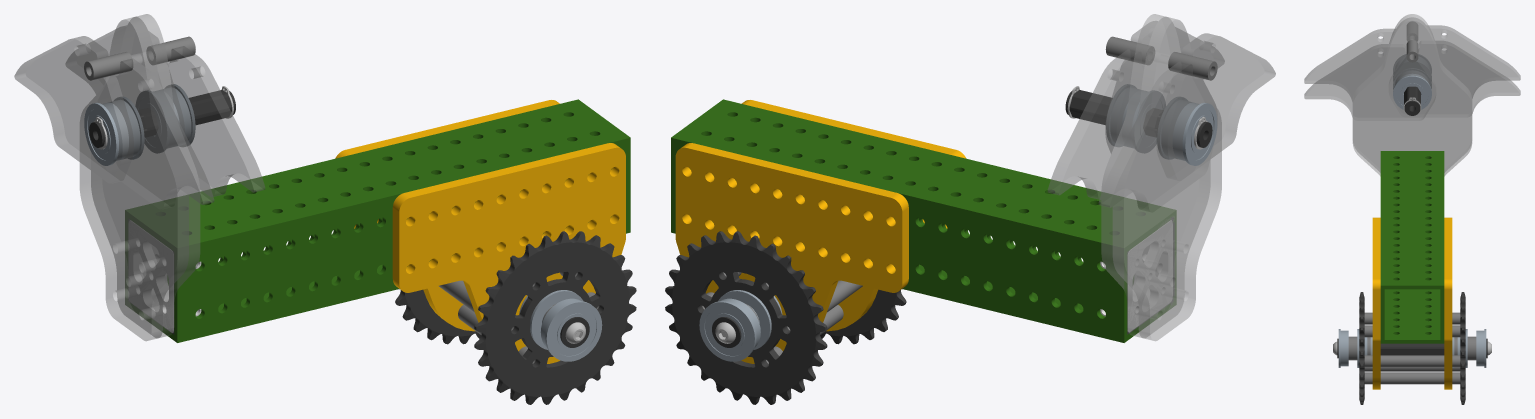
The picture shows the model from 3 angles, left to right: view 1: azimuth 30°, elevation 25°; view 2: azimuth 150°, elevation 25°; view 3: azimuth 270°, elevation 25°; orthographic projection. The views are drawn at different scales.
Visible parts, largest first — view 1: Climb Tube, Mid plate arrohead (×2), Arrowhead climb plate (×4), Climb to Mount Gusset (×2), 28t Bearing Bore Plate 35 Chain Sprocket (217-2653) (×2), .5" Hex ID 1.125" OD Flanged Bearing (217-2734) (×4), 2" x 2" Tube Plug 0.060" Wall, #10-32 Tapped (WCP-0373), .5" Round ID 1.125" OD Flanged Bearing (217-2731) (×2), Shaft (×2), 2nd Stage Motor Plate Big Spacers (×2); view 2: Climb Tube, Mid plate arrohead (×2), Climb to Mount Gusset (×2), Arrowhead climb plate (×4), 28t Bearing Bore Plate 35 Chain Sprocket (217-2653) (×2), .5" Hex ID 1.125" OD Flanged Bearing (217-2734) (×4), 2" x 2" Tube Plug 0.060" Wall, #10-32 Tapped (WCP-0373), .5" Round ID 1.125" OD Flanged Bearing (217-2731) (×2), Shaft (×2), 2nd Stage Motor Plate Big Spacers (×2); view 3: Arrowhead climb plate (×4), Mid plate arrohead (×2), Climb Tube, Climb to Mount Gusset (×2), Climb to Mount Big Spacer (×3), Shaft (×2), .5" Hex ID 1.125" OD Flanged Bearing (217-2734) (×3), 28t Bearing Bore Plate 35 Chain Sprocket (217-2653) (×2), .5" Round ID 1.125" OD Flanged Bearing (217-2731) (×2), Spacer for Big Climb Sprocket (×2), 2nd Stage Motor Plate Big Spacers.
Boxes of the visible parts, box(x1,y1,x2,y2) form: Climb Tube: box(125, 99, 630, 342); Mid plate arrohead (×2): box(79, 14, 200, 341); Arrowhead climb plate (×4): box(14, 25, 265, 209); Climb to Mount Gusset (×2): box(335, 100, 625, 363); 28t Bearing Bore Plate 35 Chain Sprocket (217-2653) (×2): box(395, 231, 636, 404); .5" Hex ID 1.125" OD Flanged Bearing (217-2734) (×4): box(84, 84, 195, 165); 2" x 2" Tube Plug 0.060" Wall, #10-32 Tapped (WCP-0373): box(128, 219, 201, 334); .5" Round ID 1.125" OD Flanged Bearing (217-2731) (×2): box(530, 290, 602, 361); Shaft (×2): box(89, 86, 589, 347); 2nd Stage Motor Plate Big Spacers (×2): box(84, 36, 195, 80); Climb Tube: box(671, 99, 1176, 342); Mid plate arrohead (×2): box(1101, 14, 1221, 341); Climb to Mount Gusset (×2): box(675, 100, 966, 363); Arrowhead climb plate (×4): box(1047, 21, 1275, 212); 28t Bearing Bore Plate 35 Chain Sprocket (217-2653) (×2): box(665, 231, 906, 404); .5" Hex ID 1.125" OD Flanged Bearing (217-2734) (×4): box(1106, 84, 1217, 165); 2" x 2" Tube Plug 0.060" Wall, #10-32 Tapped (WCP-0373): box(1100, 217, 1174, 334); .5" Round ID 1.125" OD Flanged Bearing (217-2731) (×2): box(699, 290, 771, 361); Shaft (×2): box(712, 86, 1212, 347); 2nd Stage Motor Plate Big Spacers (×2): box(1105, 36, 1217, 80); Arrowhead climb plate (×4): box(1304, 25, 1520, 120); Mid plate arrohead (×2): box(1352, 14, 1472, 176); Climb Tube: box(1380, 151, 1444, 343); Climb to Mount Gusset (×2): box(1372, 217, 1452, 389); Climb to Mount Big Spacer (×3): box(1380, 355, 1444, 384); Shaft (×2): box(1333, 86, 1491, 358); .5" Hex ID 1.125" OD Flanged Bearing (217-2734) (×3): box(1393, 60, 1431, 109); 28t Bearing Bore Plate 35 Chain Sprocket (217-2653) (×2): box(1359, 292, 1465, 404); .5" Round ID 1.125" OD Flanged Bearing (217-2731) (×2): box(1338, 329, 1486, 367); Spacer for Big Climb Sprocket (×2): box(1348, 336, 1476, 360); 2nd Stage Motor Plate Big Spacers: box(1406, 40, 1418, 62).
Bounding box in the file's own units: 0.2889 × 0.238 × 0.1721.
